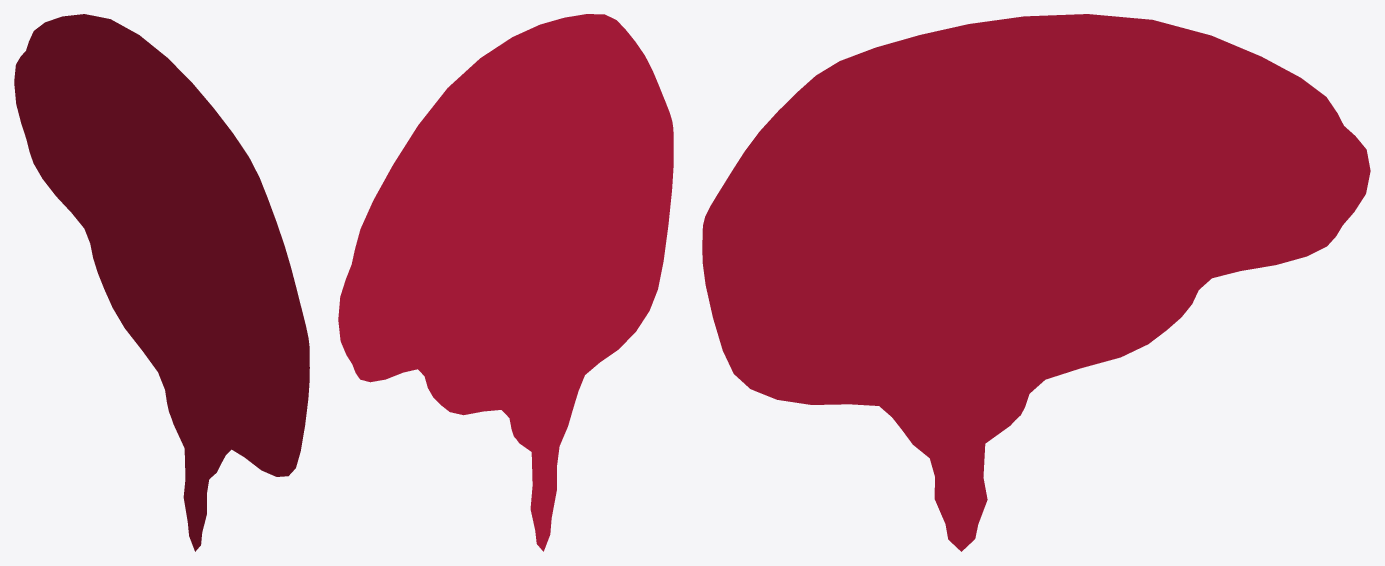
File: Brain2.glb
3 renders of one model, left to right at view 1: azimuth 30°, elevation 25°; view 2: azimuth 150°, elevation 25°; view 3: azimuth 270°, elevation 25°, orthographic. The views are drawn at different scales.
Visible parts, largest first — view 1: Plane; view 2: Plane; view 3: Plane.
Part boxes in pixels (left/top/right/bottom): Plane: left=14, top=14, right=309, bottom=551; Plane: left=338, top=14, right=673, bottom=551; Plane: left=702, top=14, right=1370, bottom=551.
Bounding box in the file's own units: 1.29e-07 × 2.68 × 3.02.
